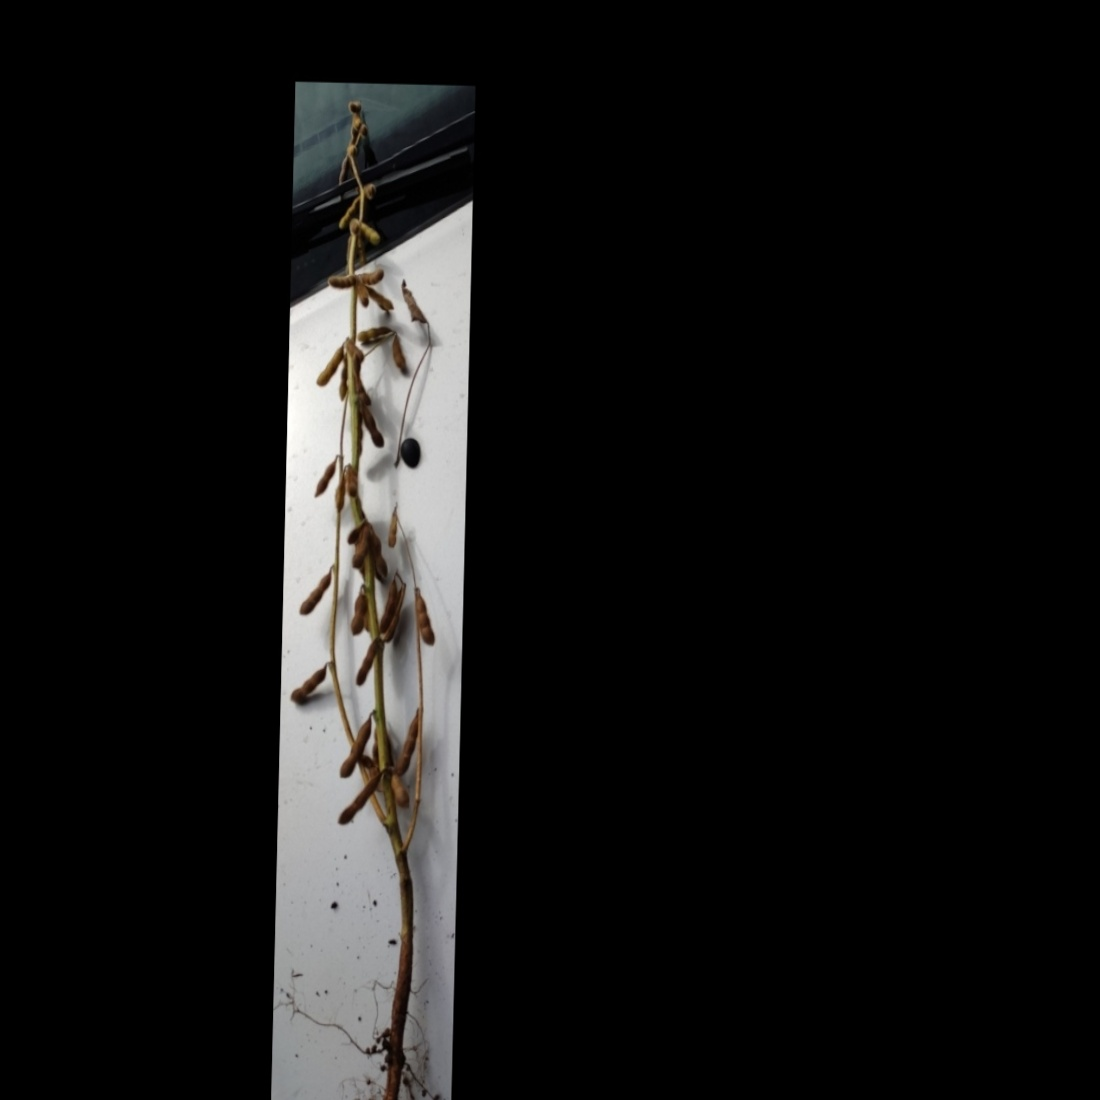pod: (332, 775, 383, 832), (334, 713, 374, 782), (296, 564, 334, 621), (285, 664, 330, 705), (393, 709, 420, 778), (359, 399, 389, 453), (313, 340, 345, 390), (415, 587, 439, 647), (352, 637, 377, 692), (311, 454, 339, 501), (347, 586, 368, 637), (352, 323, 394, 345), (355, 219, 382, 249), (325, 272, 358, 292)
soy: (272, 90, 468, 1100)
